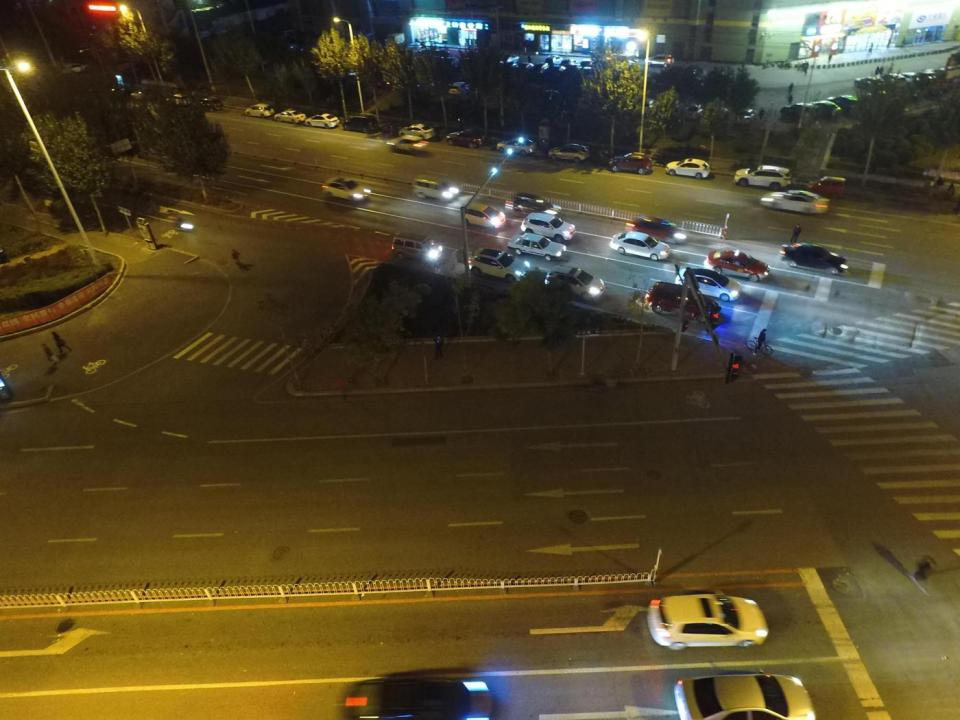car: (342, 666, 495, 720), (649, 589, 770, 651), (672, 669, 816, 719), (645, 282, 723, 326), (702, 244, 776, 283), (674, 264, 746, 304), (624, 206, 686, 246), (784, 237, 846, 276), (467, 247, 530, 283), (548, 265, 606, 302), (608, 229, 672, 260), (516, 210, 576, 242), (757, 189, 830, 215), (730, 163, 793, 191), (512, 235, 569, 262), (459, 201, 506, 229), (322, 178, 372, 204), (386, 134, 433, 158), (607, 152, 653, 176), (664, 156, 710, 178), (804, 96, 842, 120), (546, 143, 591, 163), (447, 128, 487, 150), (498, 136, 535, 156), (782, 103, 818, 123), (830, 89, 858, 113), (398, 123, 437, 140), (304, 112, 340, 129), (242, 103, 276, 121), (274, 108, 306, 124), (708, 103, 730, 126), (638, 94, 658, 118), (643, 53, 675, 68), (195, 94, 221, 112), (164, 92, 192, 108), (60, 61, 92, 75), (735, 105, 757, 125), (898, 68, 920, 86), (882, 72, 906, 88), (683, 102, 704, 120), (131, 88, 159, 101), (927, 63, 950, 78), (918, 67, 938, 84), (855, 78, 881, 91), (546, 63, 568, 78), (898, 69, 914, 87), (530, 61, 548, 77), (450, 80, 470, 94), (542, 54, 564, 66), (500, 51, 520, 64), (517, 62, 534, 74), (501, 62, 518, 74), (562, 57, 580, 68), (580, 60, 596, 72)
van: (392, 233, 445, 266), (412, 174, 462, 202), (502, 193, 556, 217), (808, 174, 851, 198), (344, 114, 379, 134)
